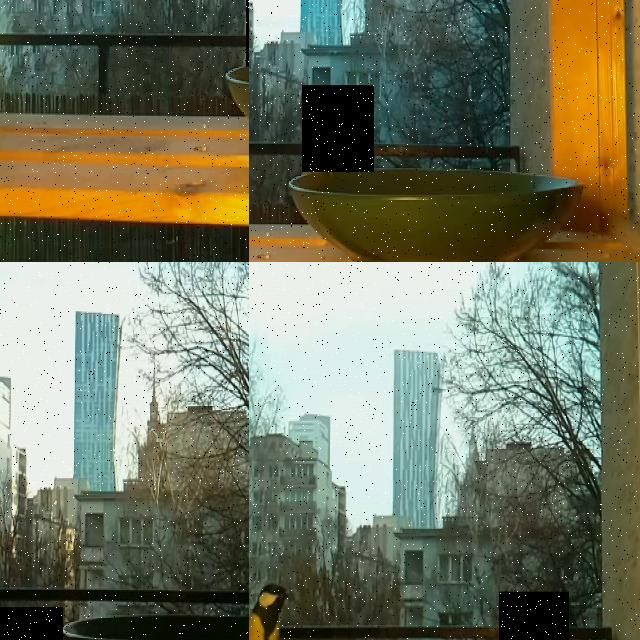Bogatka: (249, 581, 291, 640)
Modraszka: (302, 85, 374, 172), (0, 607, 63, 640)
Wrobel: (499, 591, 569, 640)
